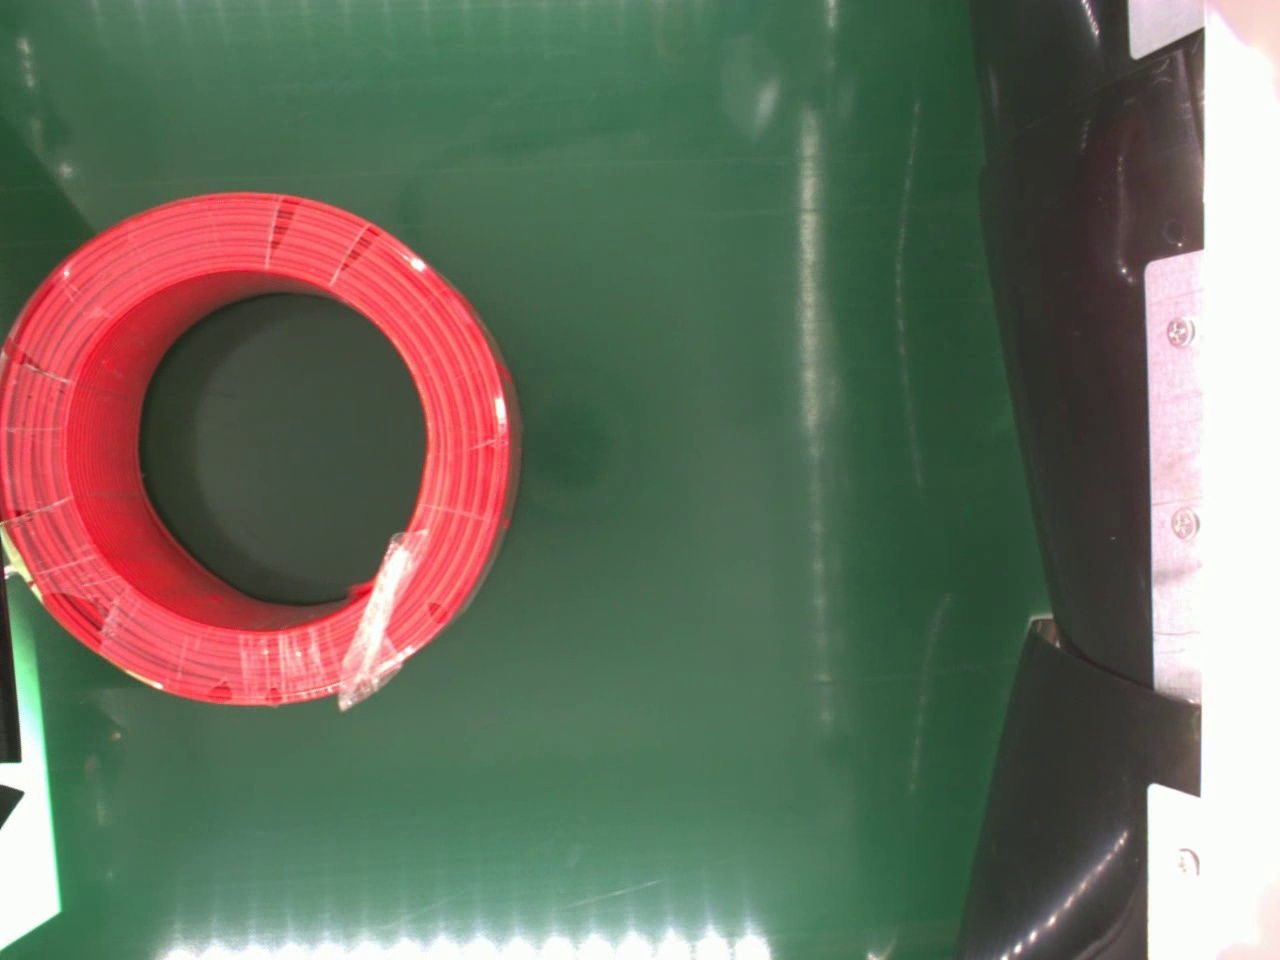red: (0, 188, 523, 716)
